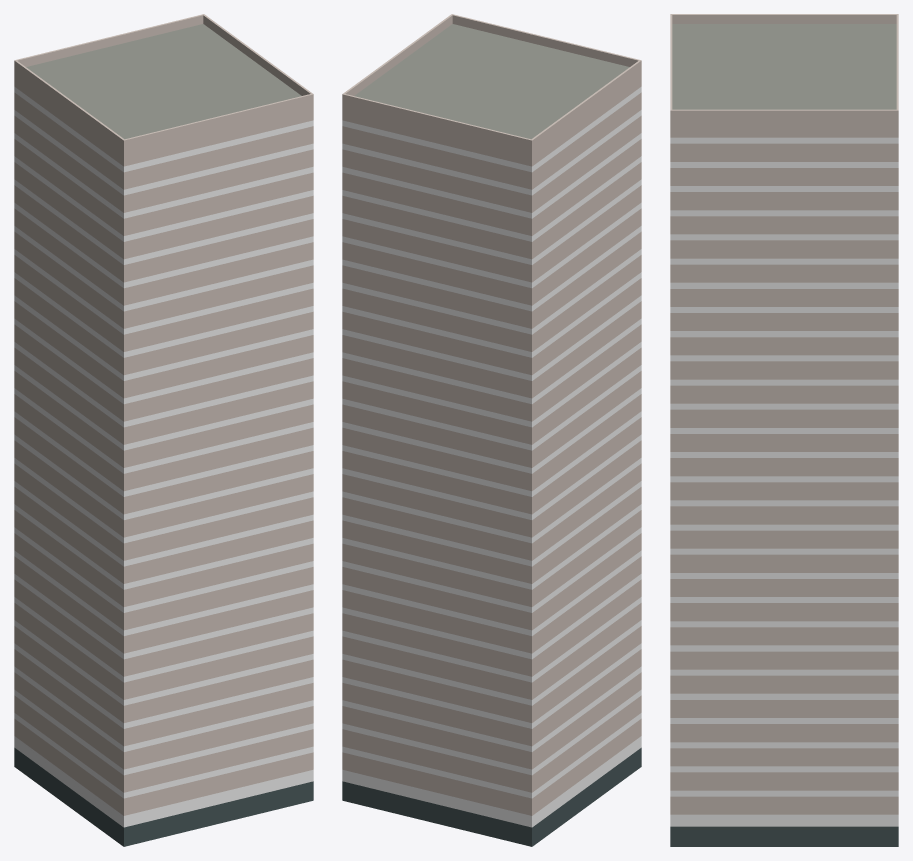
Rendered from far.fbx.
The picture shows the model from 3 angles, left to right: view 1: azimuth 30°, elevation 25°; view 2: azimuth 150°, elevation 25°; view 3: azimuth 270°, elevation 25°; orthographic projection. The views are drawn at different scales.
Parts seen in each view (by area): view 1: a2011/300/far; view 2: a2011/300/far; view 3: a2011/300/far.
Boxes of the visible parts, bbox=[...] form: a2011/300/far: bbox=[14, 14, 313, 846]; a2011/300/far: bbox=[342, 14, 641, 846]; a2011/300/far: bbox=[670, 14, 898, 846].
Bounding box in the file's own units: 30 × 107 × 30.
